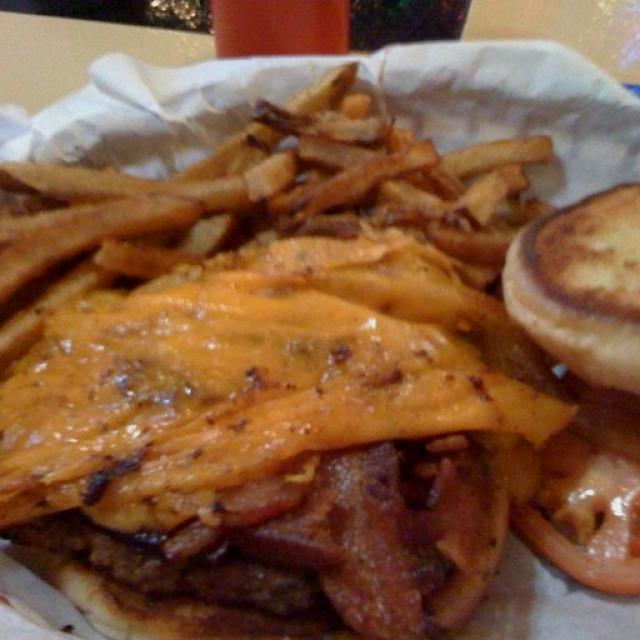burger: (3, 222, 500, 640)
